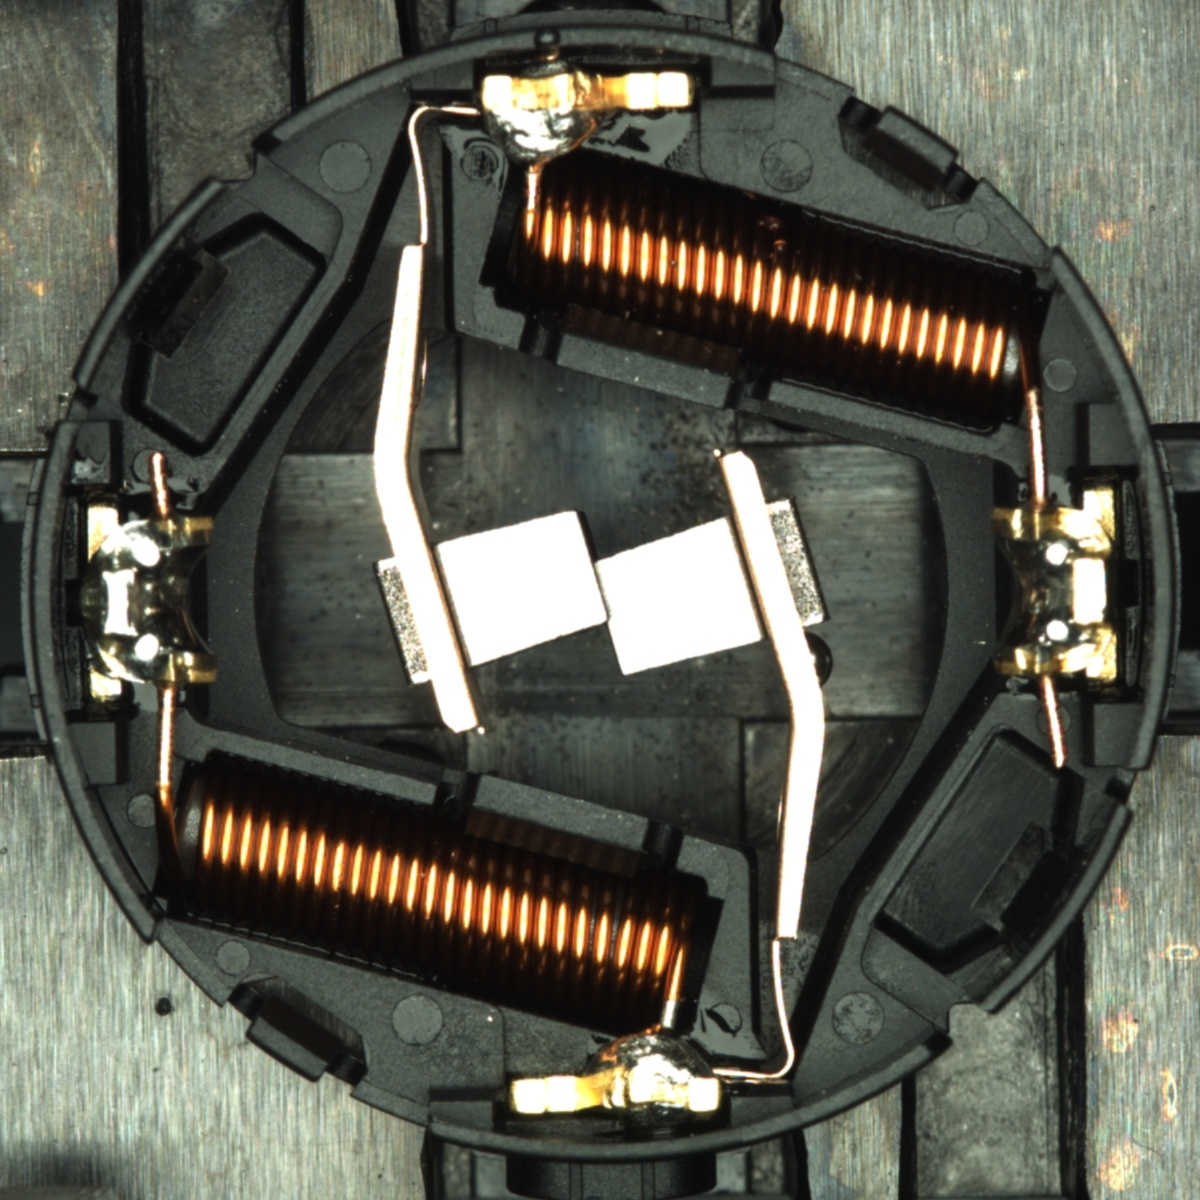1: (255, 30, 484, 255), (713, 927, 943, 1152)
2: (713, 30, 943, 255), (255, 927, 484, 1152)
3: (25, 255, 255, 479), (943, 703, 1171, 927)
4: (713, 703, 943, 927), (255, 255, 484, 479)
5: (484, 142, 713, 367), (484, 815, 713, 1040)
6: (713, 255, 943, 479), (255, 703, 484, 927)
7: (25, 703, 255, 927), (943, 255, 1171, 479)
cacbon: (397, 499, 800, 684)
chau_dien: (81, 500, 222, 701), (984, 488, 1123, 686)
hat_chi: (803, 631, 834, 689)
tay_choi: (479, 69, 697, 173), (510, 1023, 721, 1116)
thanh_de: (955, 788, 1141, 1030), (60, 165, 244, 404)
